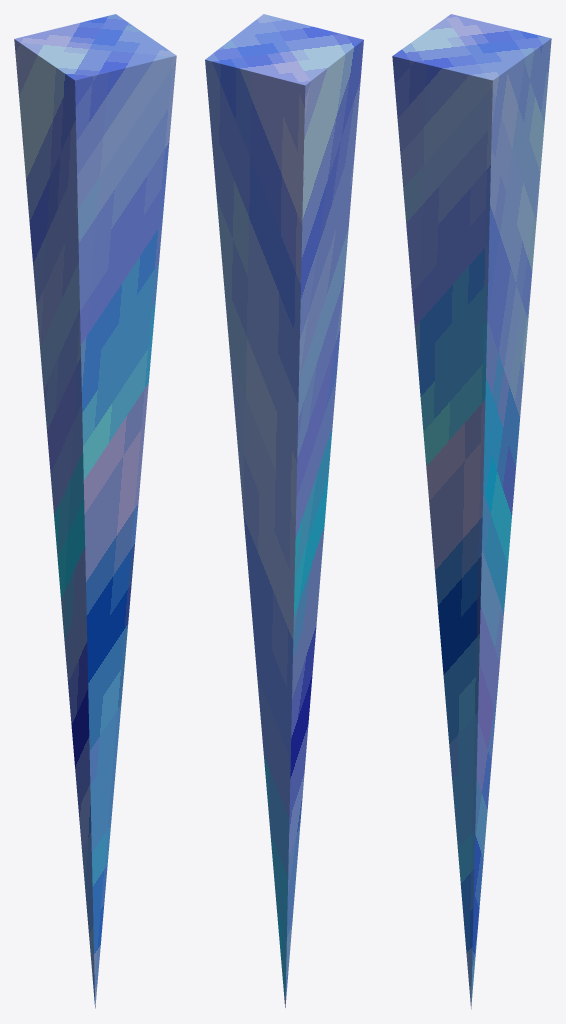
The model's file is pyram2.glb.
The picture shows the model from 3 angles, left to right: view 1: azimuth 30°, elevation 25°; view 2: azimuth 150°, elevation 25°; view 3: azimuth 330°, elevation 25°; orthographic projection.
Visible parts, largest first — view 1: pyram2; view 2: pyram2; view 3: pyram2.
Boxes of the visible parts, box(x1,y1,x2,y2) form: pyram2: box(14, 14, 176, 1008); pyram2: box(205, 14, 363, 1007); pyram2: box(392, 14, 551, 1009).
Bounding box in the file's own units: 0.9902 × 8.93 × 1.01.
Materials: 1 (1 with a texture image).
